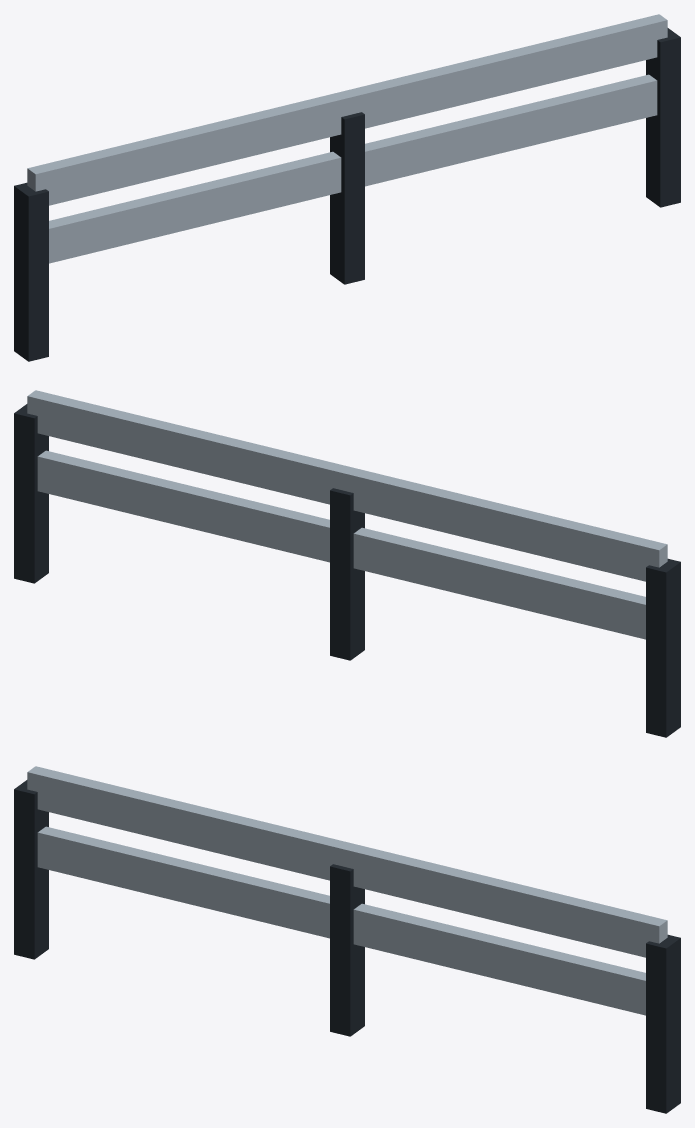
File: guardrail_straight_4m.glb
3 renders of one model, top to bottom at view 1: azimuth 30°, elevation 25°; view 2: azimuth 150°, elevation 25°; view 3: azimuth 330°, elevation 25°, orthographic.
Visible parts, largest first — view 1: guardrail_straight_4m__static; view 2: guardrail_straight_4m__static; view 3: guardrail_straight_4m__static.
Part boxes in pixels (x1,y1,x2,y2): guardrail_straight_4m__static: (14, 14, 680, 361); guardrail_straight_4m__static: (14, 390, 680, 737); guardrail_straight_4m__static: (14, 766, 680, 1113).
Size of the model in its own units: 4.13 by 1.11 by 0.16.
